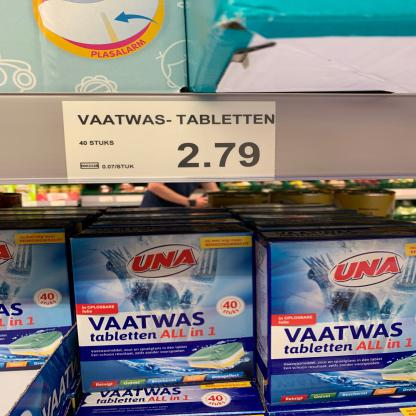prtg: (63, 102, 277, 184)
